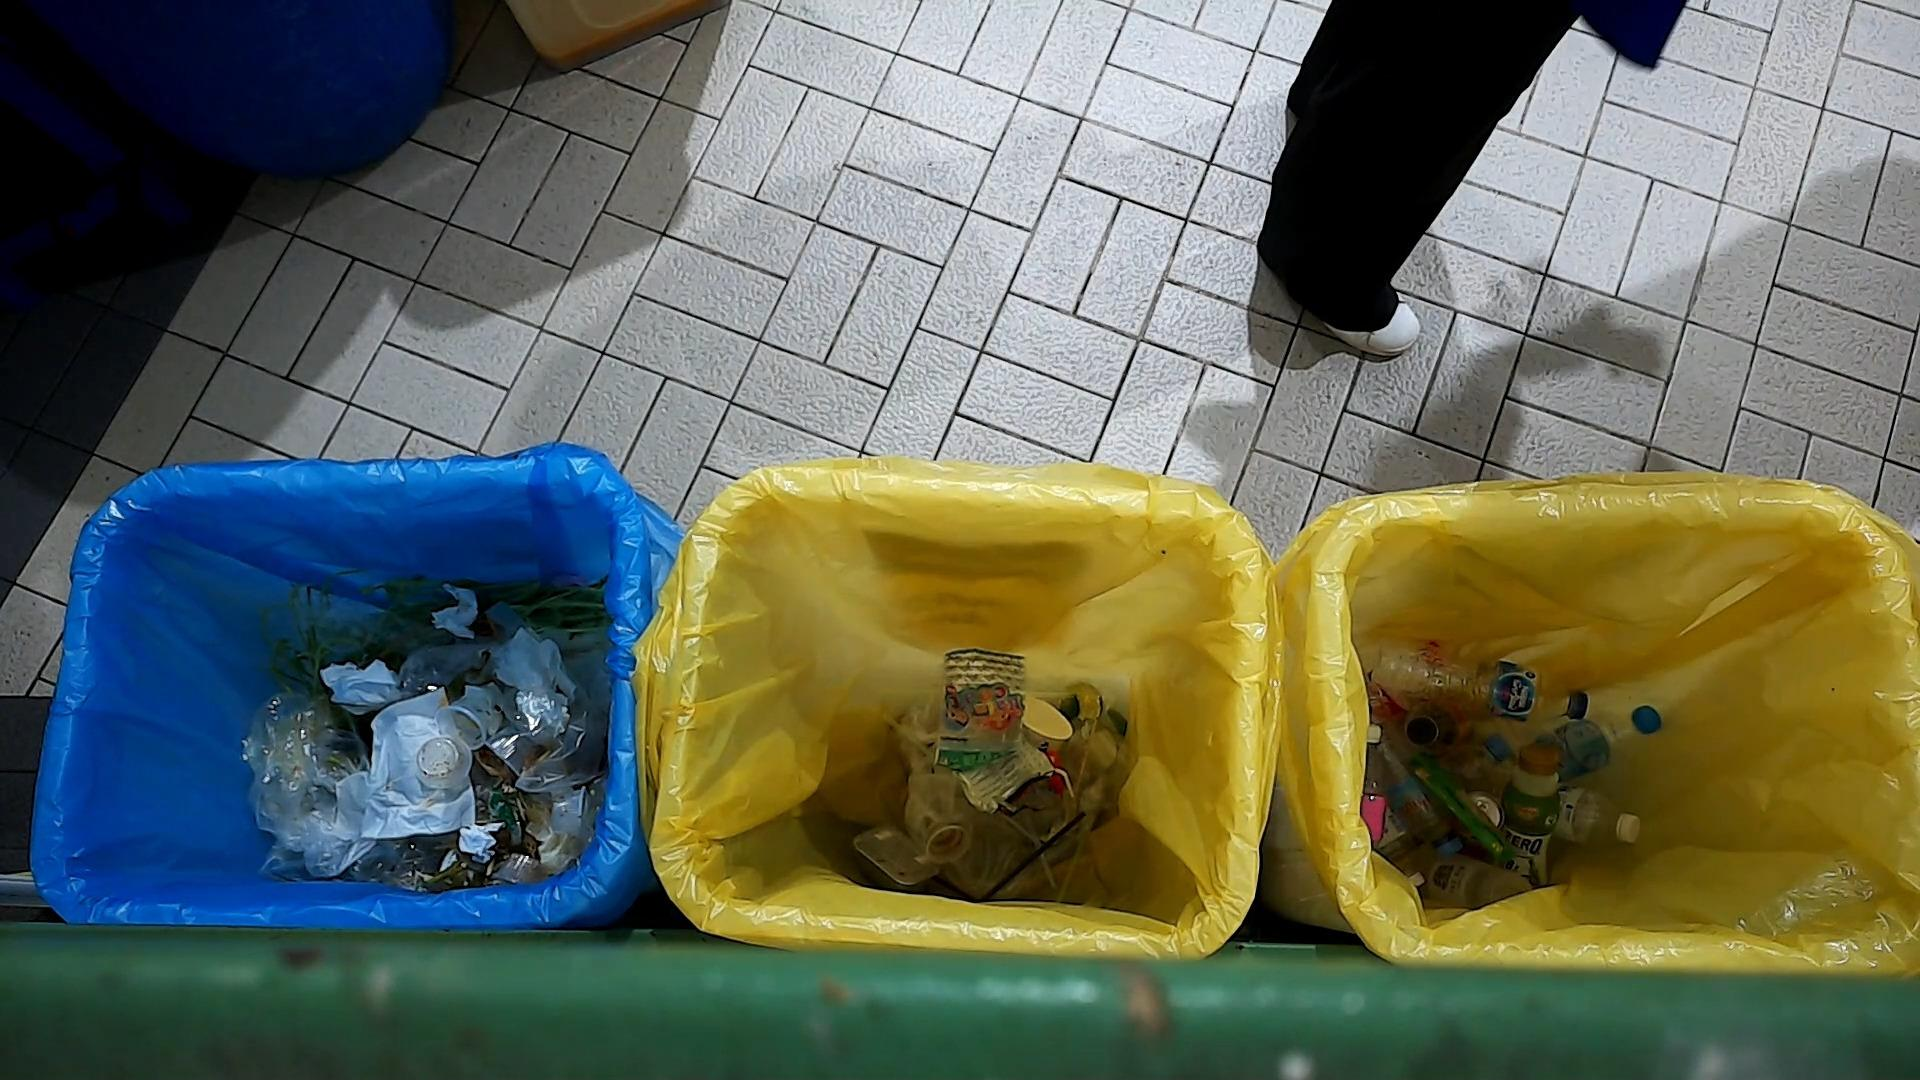food container: (848, 824, 942, 891), (430, 695, 502, 752), (414, 736, 475, 791), (550, 782, 593, 840), (924, 822, 973, 868)
plastic bag: (240, 712, 376, 880)
plastic bottle: (1370, 636, 1590, 729), (1375, 727, 1470, 860), (1527, 700, 1665, 782), (1501, 736, 1575, 887)
plastic cup: (1404, 851, 1534, 909)
snack packaging: (932, 645, 1035, 766), (1415, 753, 1507, 869)
straw: (978, 804, 1089, 902)
tissue paper: (357, 688, 479, 837), (491, 626, 575, 703), (319, 658, 404, 715), (430, 582, 480, 640), (458, 825, 497, 858)
